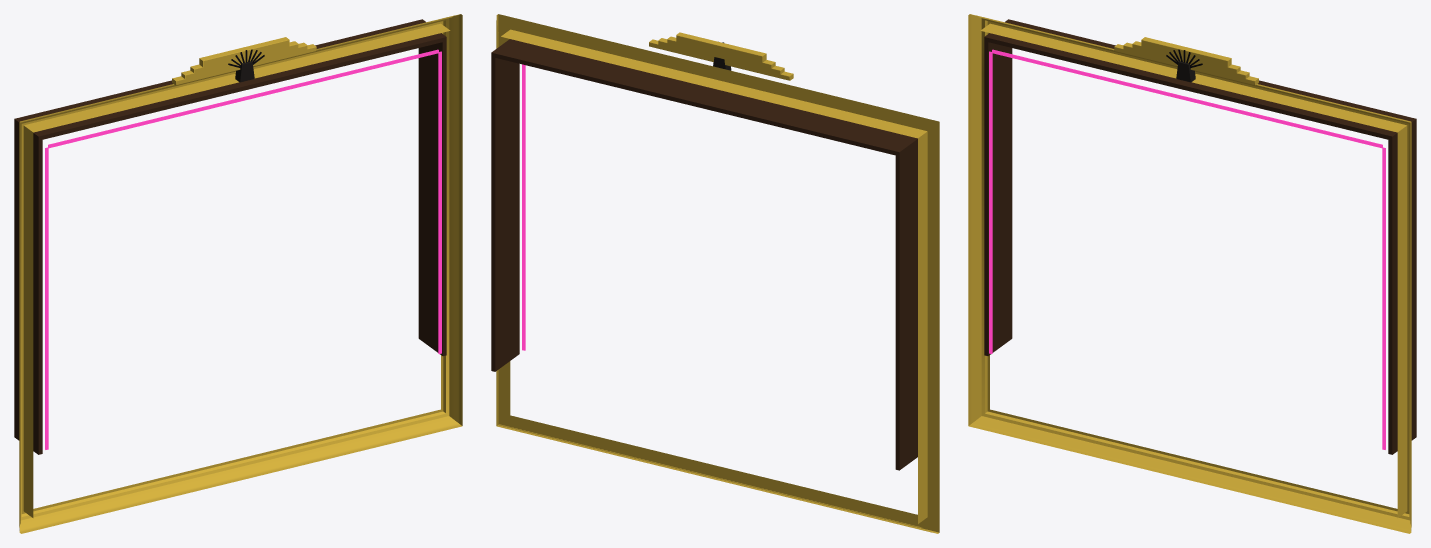
The model's file is door_frame_40.glb.
3 views of the same model, side by side, from view 1: azimuth 30°, elevation 25°; view 2: azimuth 150°, elevation 25°; view 3: azimuth 330°, elevation 25° (orthographic).
Visible parts, largest first — view 1: doorframe40_gold, doorframe40_woodDark, doorframe40_glow; view 2: doorframe40_gold, doorframe40_woodDark, doorframe40_glow; view 3: doorframe40_gold, doorframe40_woodDark, doorframe40_glow.
Boxes of the visible parts, <box> form: doorframe40_gold: <box>19,14,462,533</box>; doorframe40_woodDark: <box>14,19,446,454</box>; doorframe40_glow: <box>45,49,441,449</box>; doorframe40_gold: <box>496,14,939,533</box>; doorframe40_woodDark: <box>491,39,917,470</box>; doorframe40_glow: <box>522,64,525,350</box>; doorframe40_gold: <box>968,14,1411,533</box>; doorframe40_woodDark: <box>984,19,1416,454</box>; doorframe40_glow: <box>989,49,1385,449</box>.
Bounding box in the file's own units: 4.41 × 4.14 × 0.5039.
